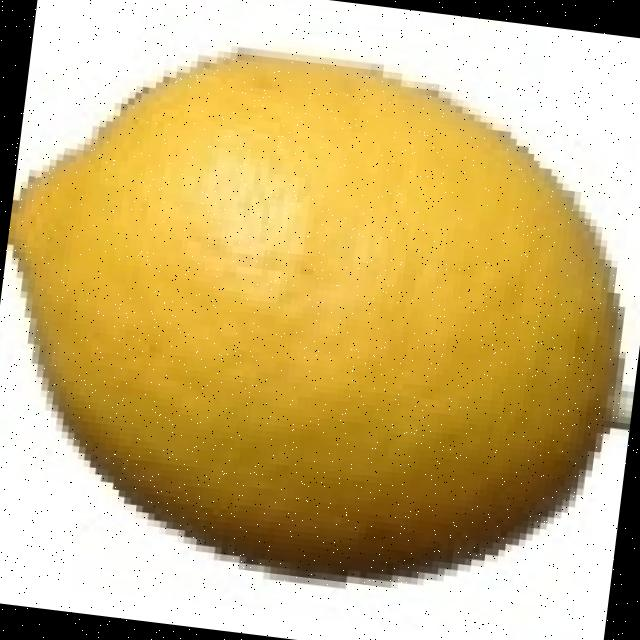lemon: (7, 53, 618, 578)
